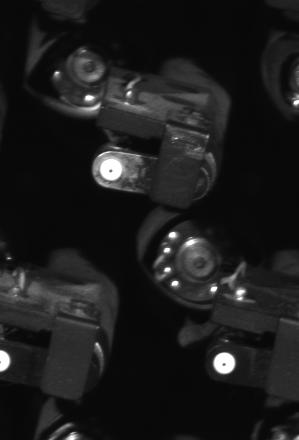fiber: (209, 348, 241, 377), (97, 156, 128, 185), (1, 347, 18, 374)
